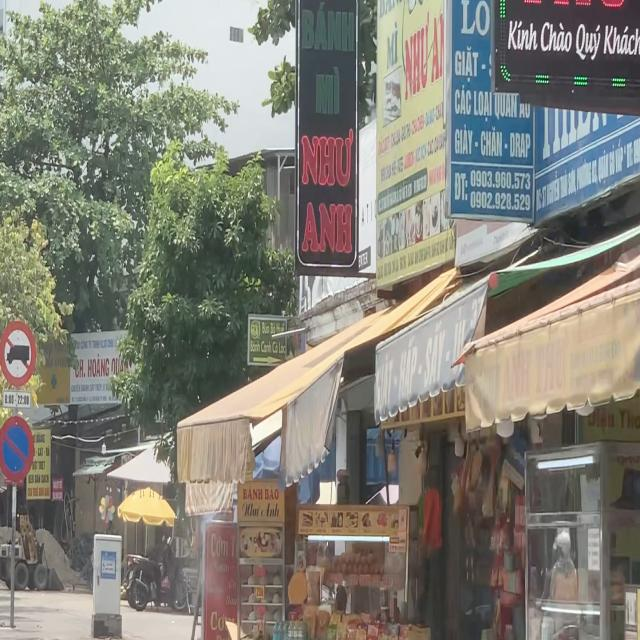Cam con lai: (0, 320, 35, 385)
Cam do: (0, 415, 35, 481)
